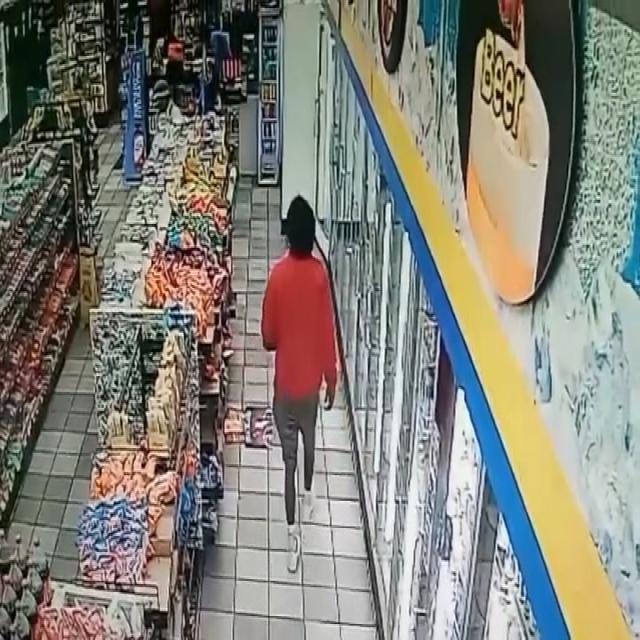normal: (258, 189, 342, 579)
